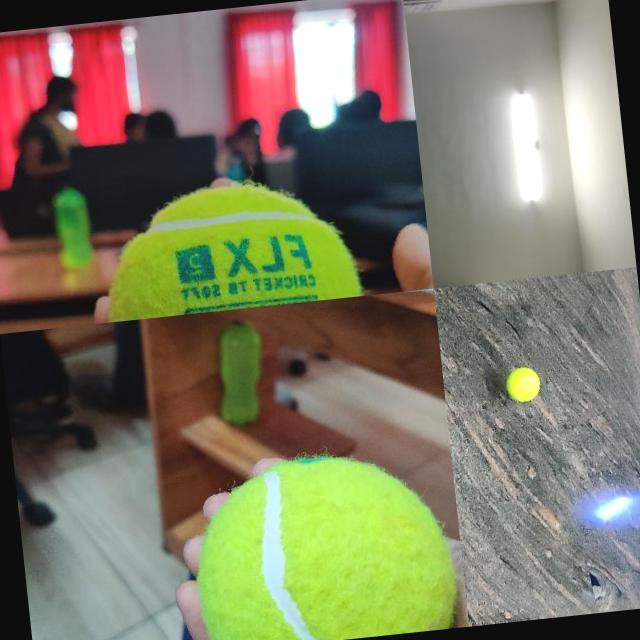Tennis Ball: (185, 443, 460, 640), (96, 173, 364, 321), (504, 366, 542, 404)
